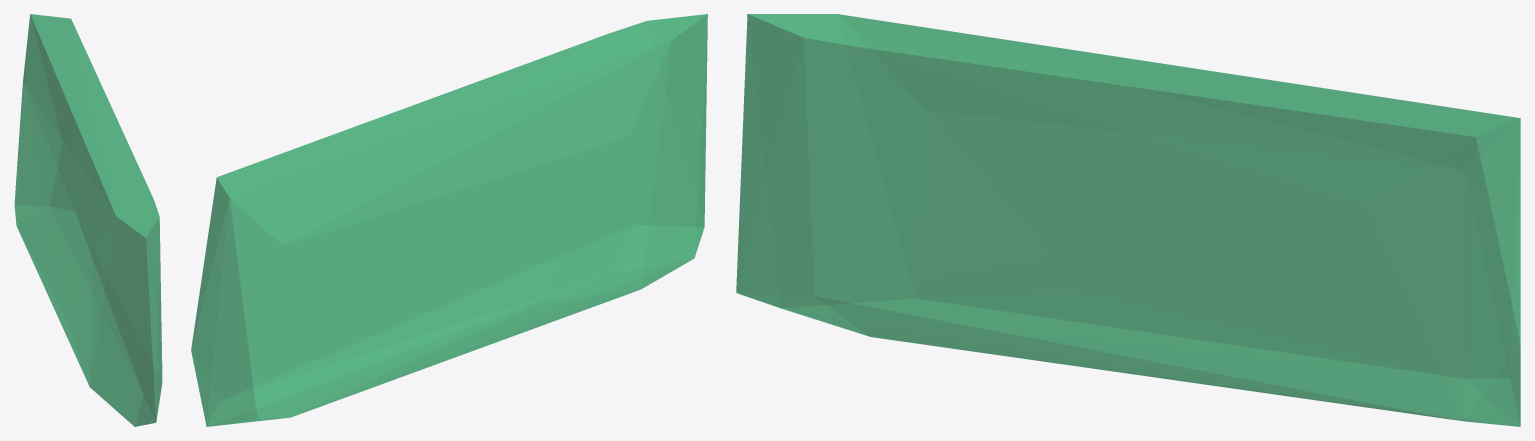
3 renders of one model, left to right at view 1: azimuth 30°, elevation 25°; view 2: azimuth 150°, elevation 25°; view 3: azimuth 270°, elevation 25°, orthographic. The views are drawn at different scales.
Parts seen in each view (by area): view 1: Shape_IndexedFaceSet.035_Shape_IndexedFaceSet.14068; view 2: Shape_IndexedFaceSet.035_Shape_IndexedFaceSet.14068; view 3: Shape_IndexedFaceSet.035_Shape_IndexedFaceSet.14068.
Part boxes in pixels (box(x1,y1,x2,y2)): Shape_IndexedFaceSet.035_Shape_IndexedFaceSet.14068: box(14, 14, 162, 426); Shape_IndexedFaceSet.035_Shape_IndexedFaceSet.14068: box(191, 14, 707, 426); Shape_IndexedFaceSet.035_Shape_IndexedFaceSet.14068: box(736, 14, 1520, 426).
Size of the model in its own units: 0.0903 by 0.097 by 0.2341.
